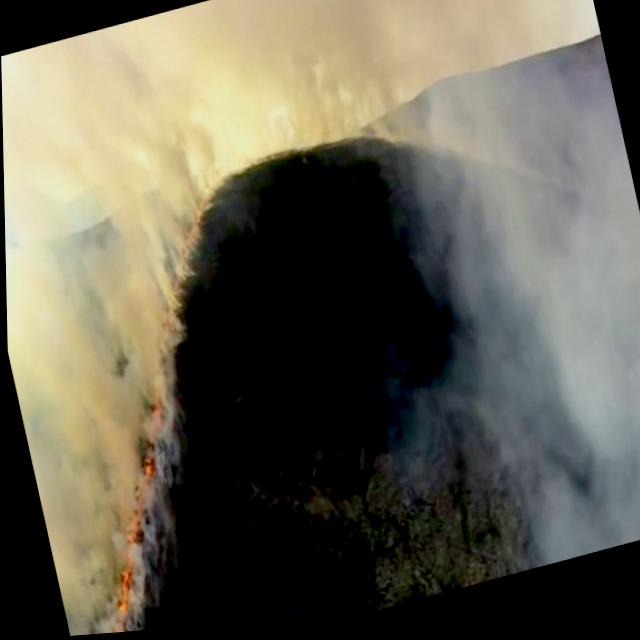smoke: (345, 61, 640, 604), (0, 0, 608, 227), (3, 181, 106, 640)
